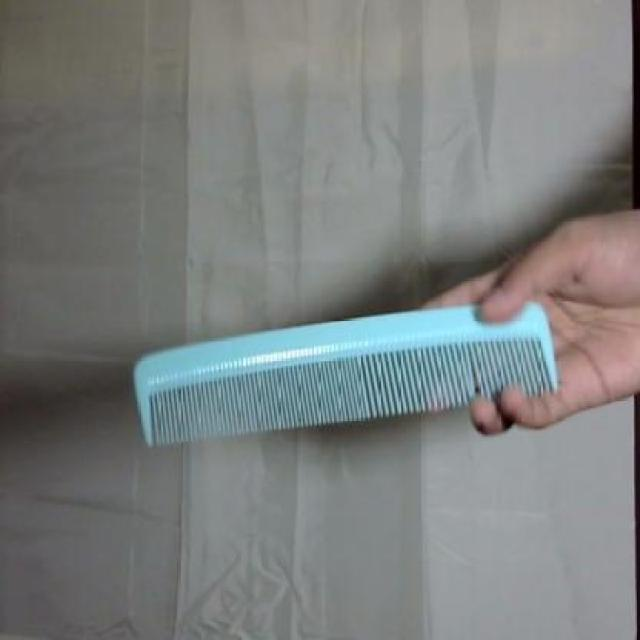Plastic: (126, 294, 564, 453)
